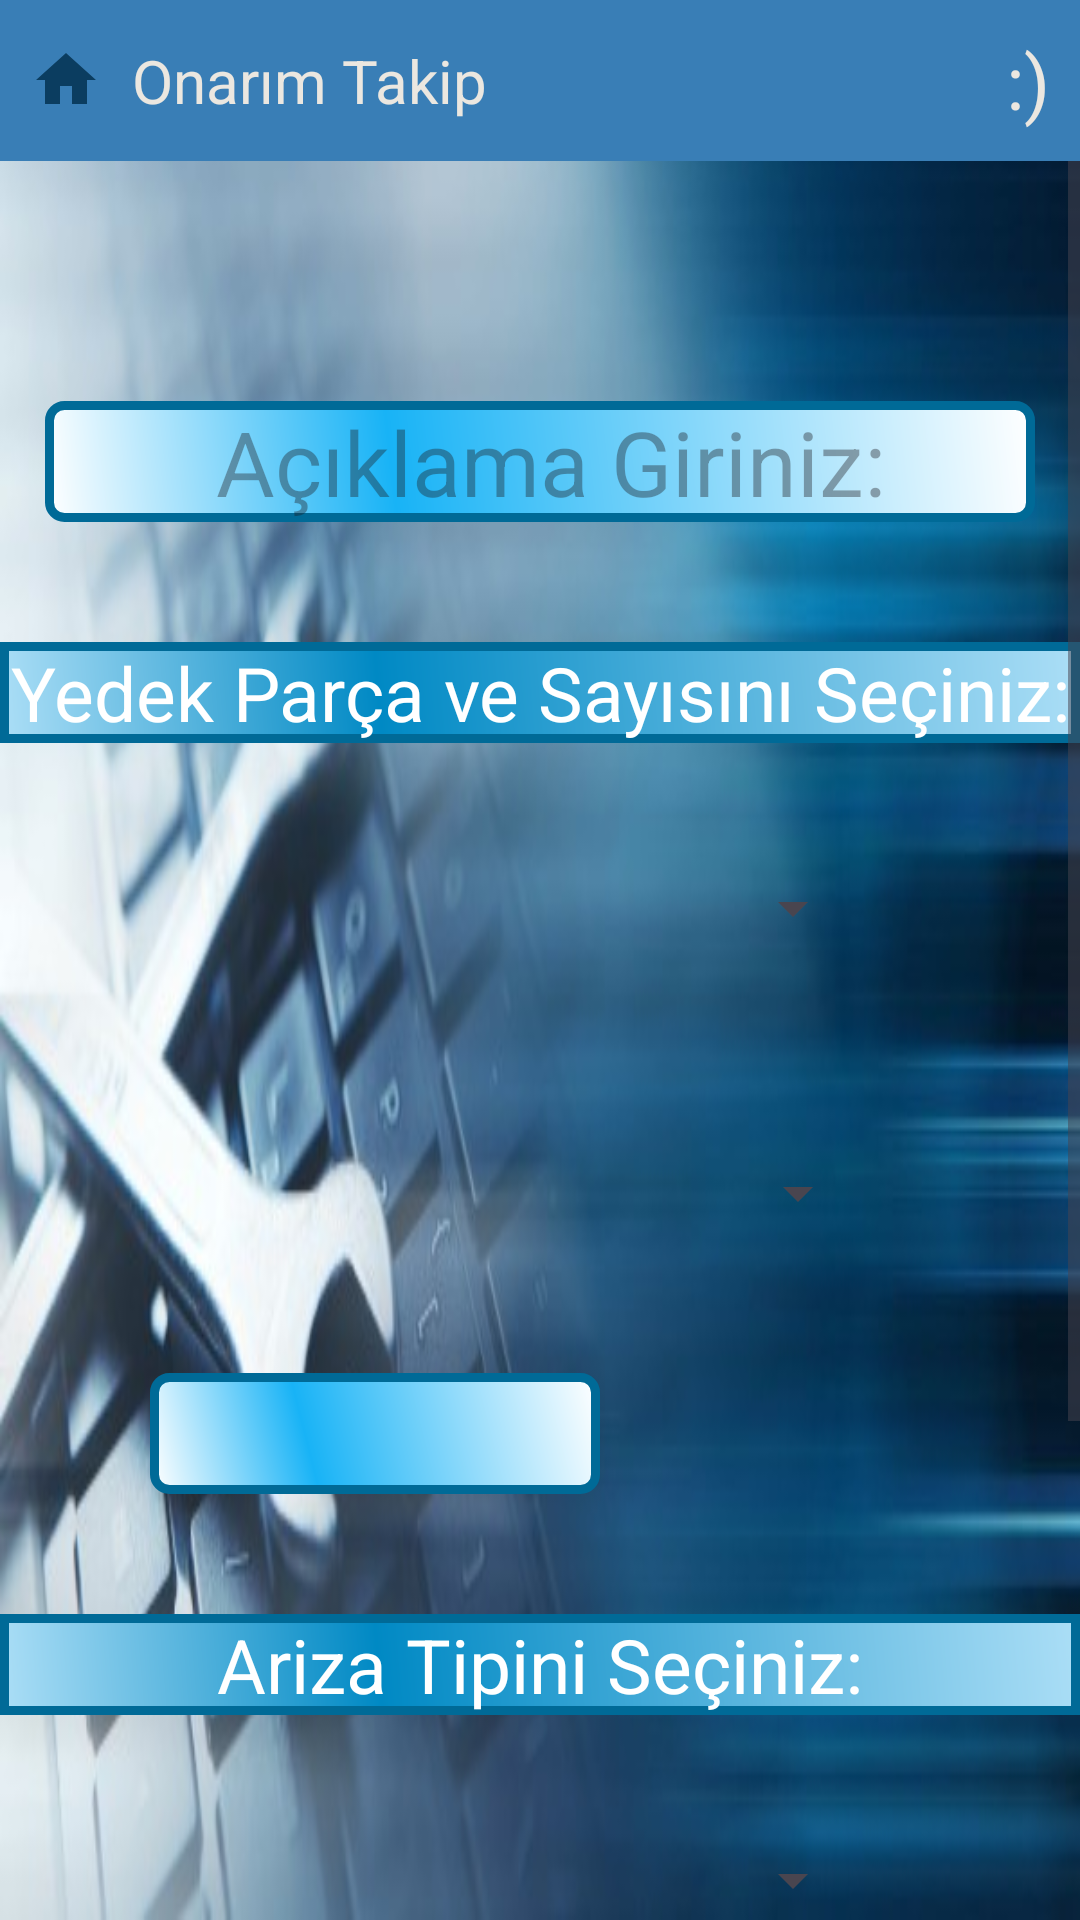

Point at icon controls on the screen. Image size 1080*1920, points as point (x, y).
home: point (66, 78)
